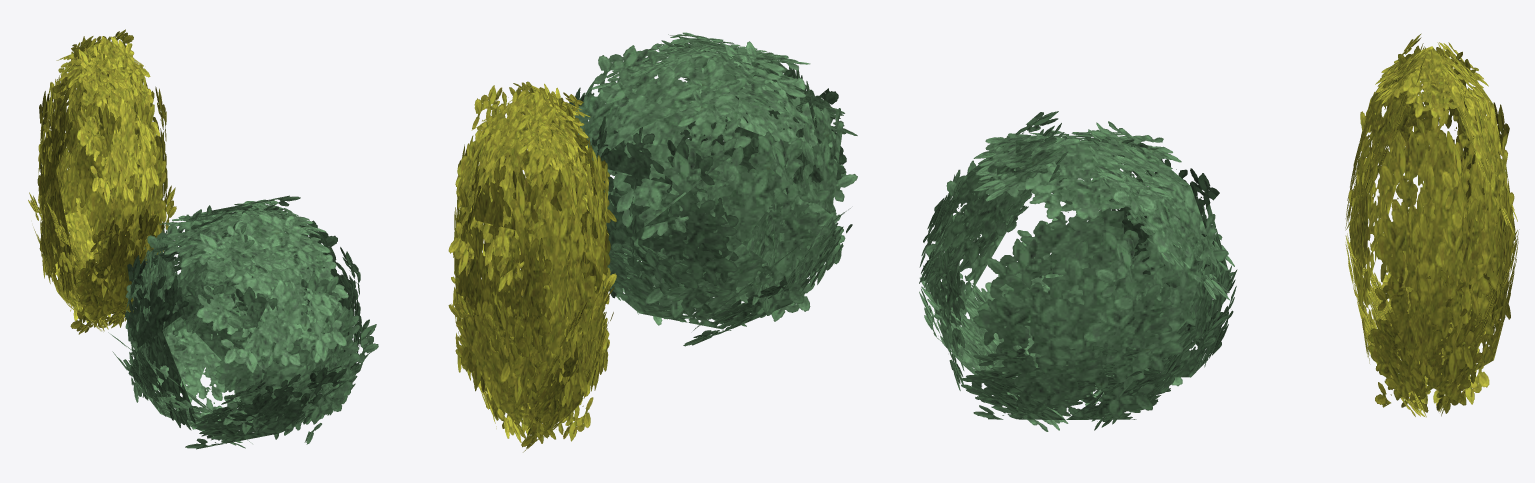
Rendered from Bushes.fbx.
3 views of the same model, side by side, from view 1: azimuth 30°, elevation 25°; view 2: azimuth 150°, elevation 25°; view 3: azimuth 270°, elevation 25° (orthographic). The views are drawn at different scales.
Parts seen in each view (by area): view 1: Bush_Big, Bush_Long; view 2: Bush_Big, Bush_Long; view 3: Bush_Big, Bush_Long.
Part boxes in pixels (x1,y1,x2,y2): Bush_Big: (108, 195, 378, 449); Bush_Long: (28, 29, 176, 334); Bush_Big: (569, 32, 857, 346); Bush_Long: (448, 81, 616, 452); Bush_Big: (919, 111, 1237, 431); Bush_Long: (1345, 33, 1519, 417).
Size of the model in its own units: 22.12 by 28.21 by 41.29.
